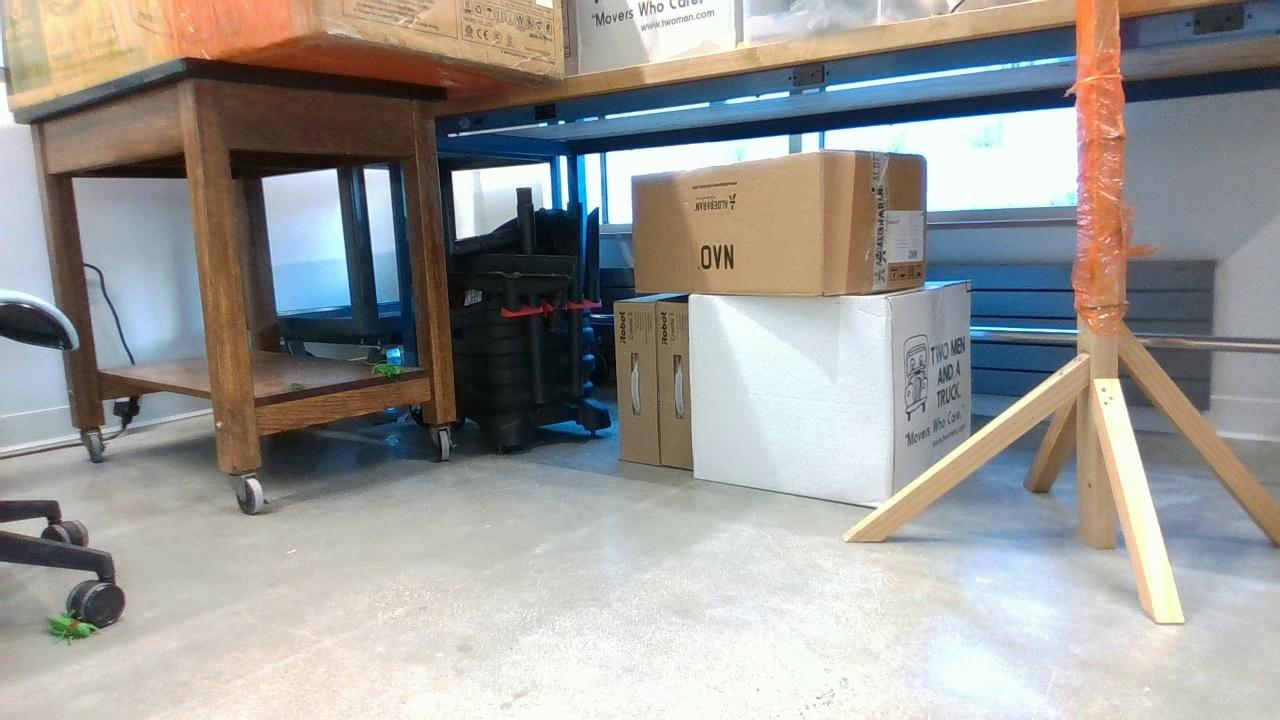grasshopper: (41, 612, 100, 642), (367, 360, 405, 380)
